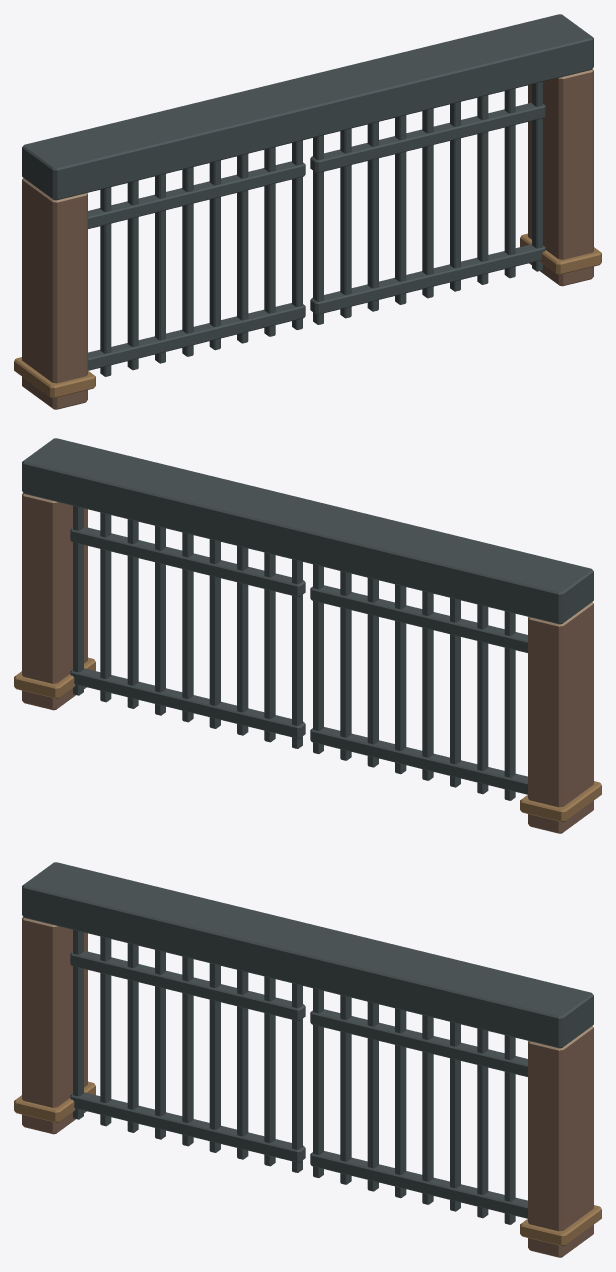
File: gate-wide.glb
3 renders of one model, top to bottom at view 1: azimuth 30°, elevation 25°; view 2: azimuth 150°, elevation 25°; view 3: azimuth 330°, elevation 25°, orthographic.
Visible parts, largest first — view 1: gate-wide__body, gate-wide__leaf-right, gate-wide__leaf-left; view 2: gate-wide__body, gate-wide__leaf-right, gate-wide__leaf-left; view 3: gate-wide__body, gate-wide__leaf-left, gate-wide__leaf-right.
Part boxes in pixels (x1,y1,x2,y2): gate-wide__body: (14, 14, 601, 409); gate-wide__leaf-right: (310, 82, 545, 324); gate-wide__leaf-left: (88, 140, 305, 376); gate-wide__body: (14, 438, 601, 833); gate-wide__leaf-right: (70, 506, 305, 748); gate-wide__leaf-left: (310, 564, 527, 800); gate-wide__body: (14, 862, 601, 1257); gate-wide__leaf-left: (70, 930, 305, 1172); gate-wide__leaf-right: (310, 988, 527, 1224).
Size of the model in its own units: 4.69 by 1.96 by 0.58.
